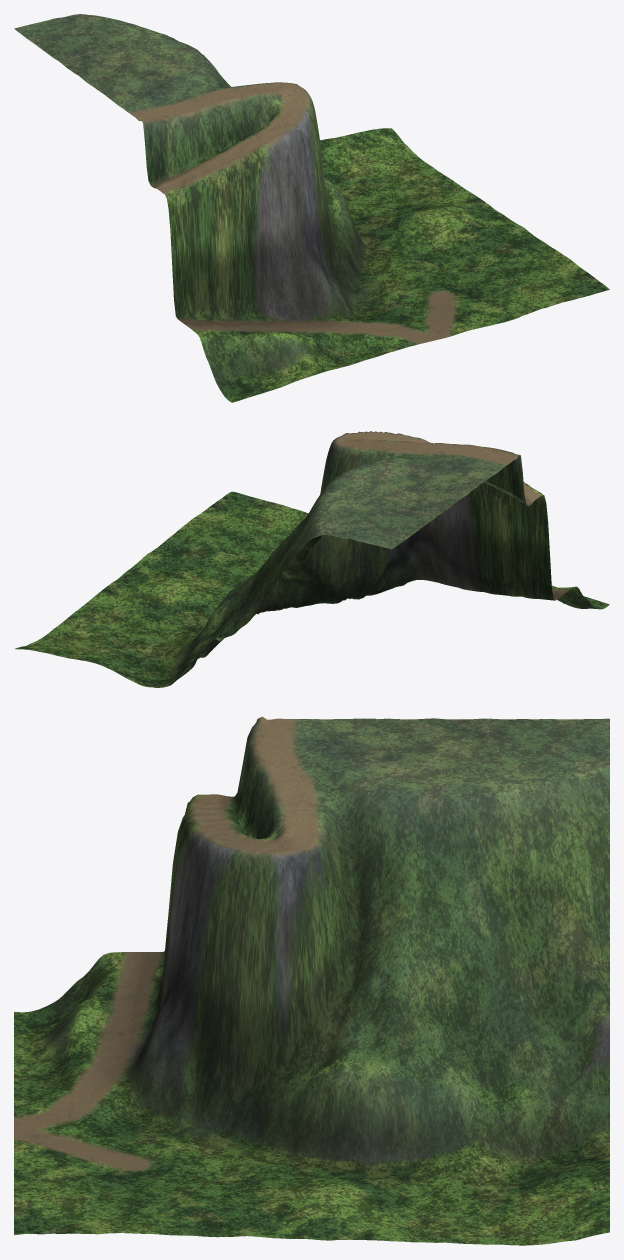
The picture shows the model from 3 angles, top to bottom: view 1: azimuth 30°, elevation 25°; view 2: azimuth 150°, elevation 25°; view 3: azimuth 270°, elevation 25°; orthographic projection. The views are drawn at different scales.
Visible parts, largest first — view 1: t128_128; view 2: t128_128; view 3: t128_128.
Part boxes in pixels (x1,y1,x2,y2): t128_128: (14,14,609,402); t128_128: (15,431,609,687); t128_128: (14,716,609,1245).
Size of the model in its own units: 64 by 35.05 by 64.
Materials: 1 (1 with a texture image).
